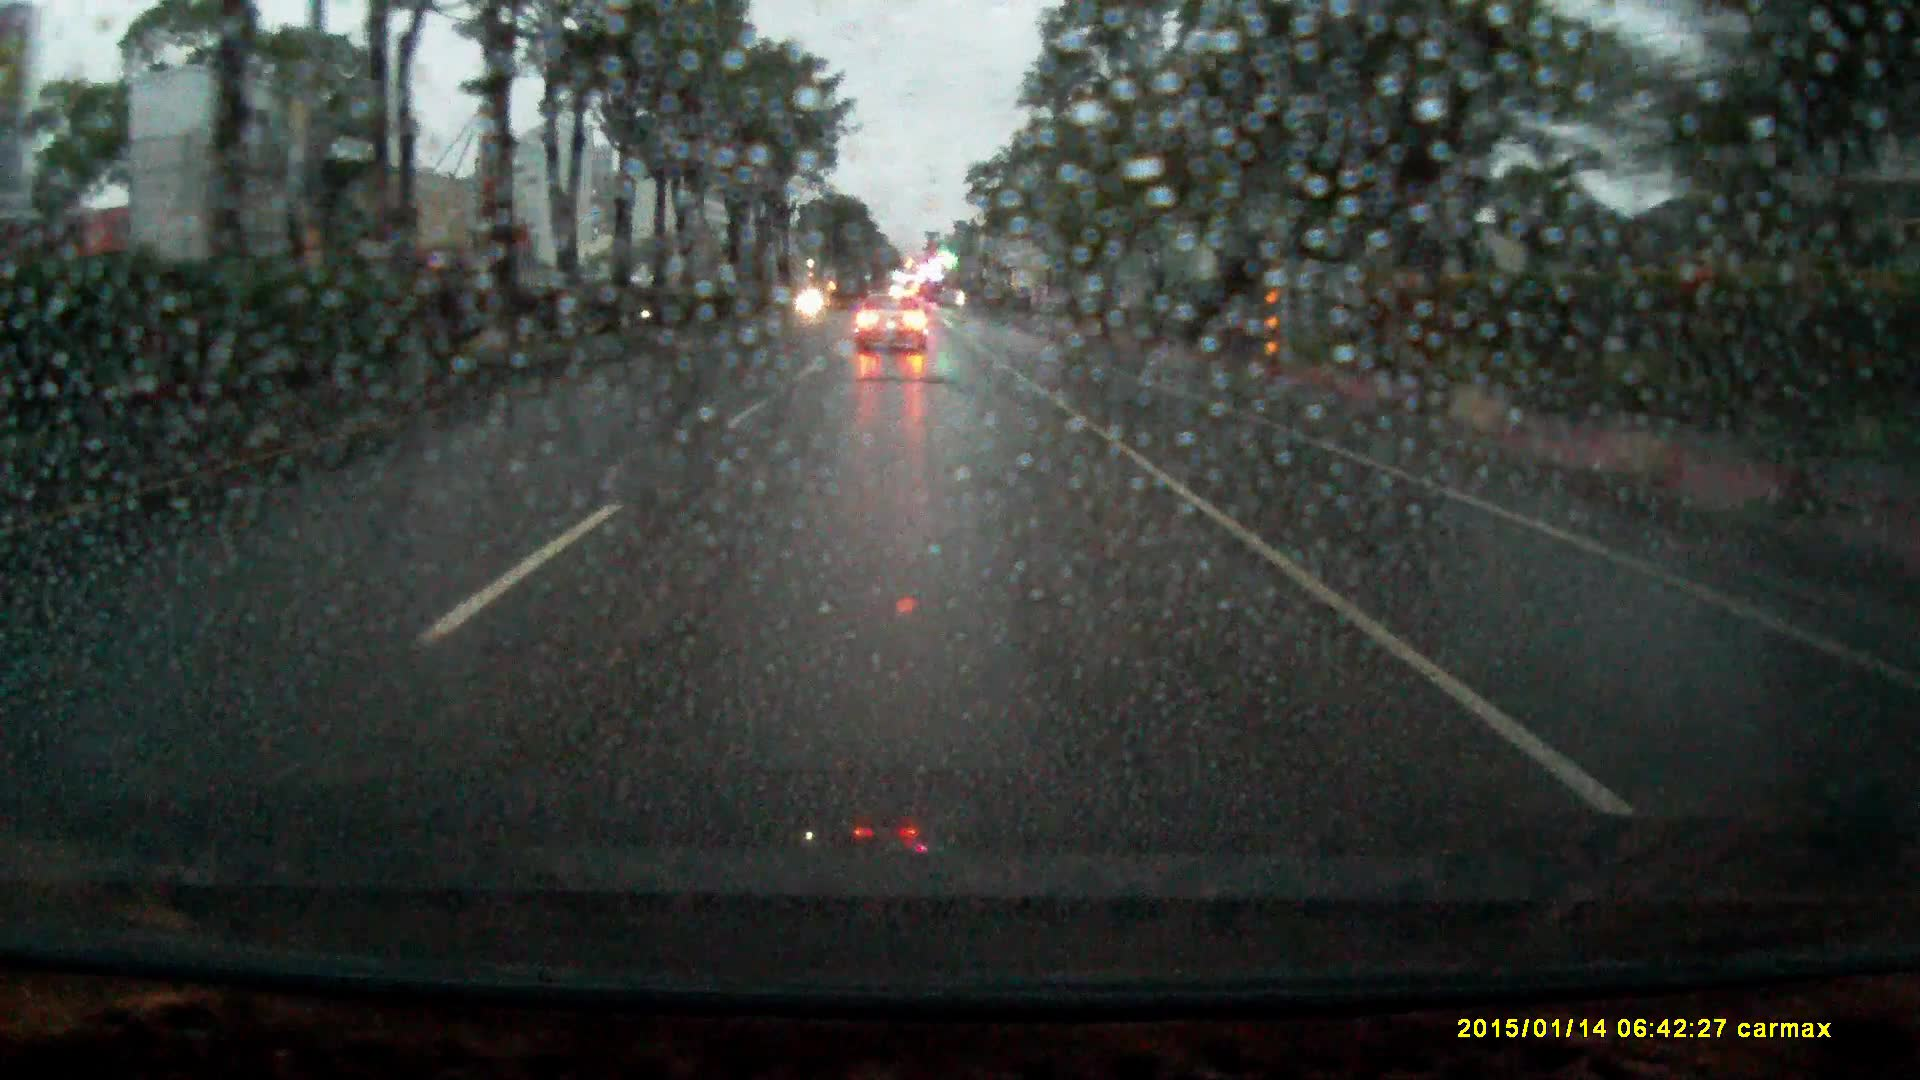vehicle: (855, 294, 931, 359)
